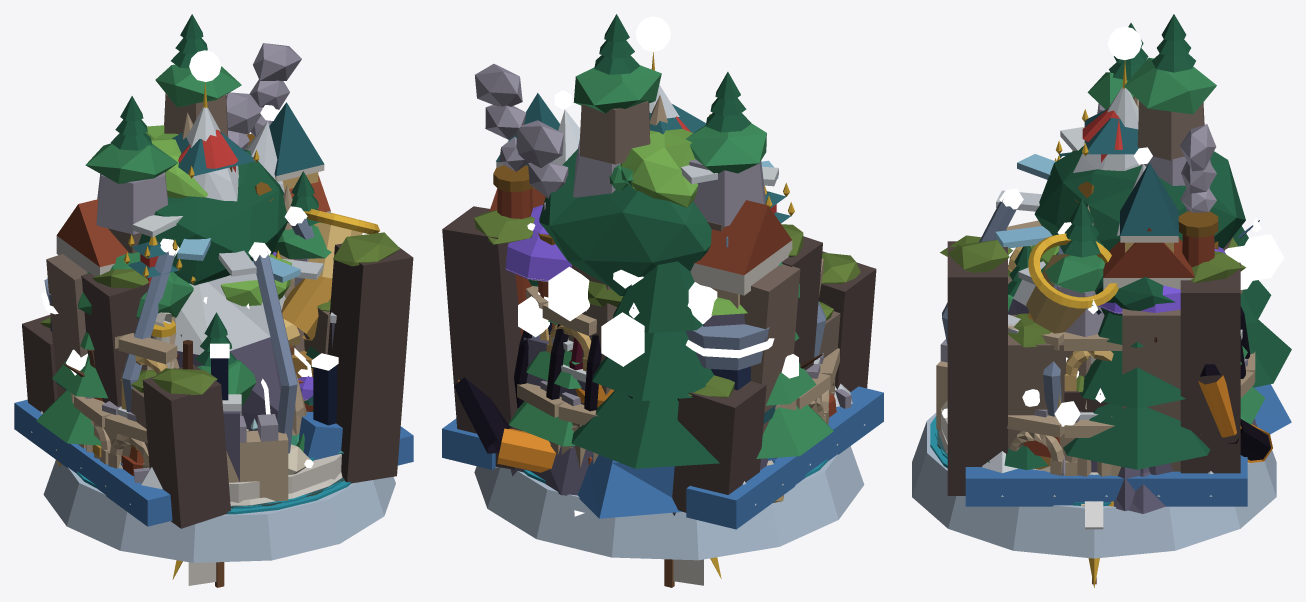
Rendered from orrery.glb.
3 renders of one model, left to right at view 1: azimuth 30°, elevation 25°; view 2: azimuth 150°, elevation 25°; view 3: azimuth 270°, elevation 25°, orthographic. The views are drawn at different scales.
Visible parts, largest first — view 1: or_site_gorge_paint, or_site_abyss_paint, or_site_pillars_paint, or_site_oak_paint, or_site_summit_paint, or_site_fangs_paint, or_site_tethys_paint, or_site_fortress_paint, or_site_colosseum_paint, or_site_horn_paint, or_site_factory_paint, or_site_vault_paint (+19 smaller); view 2: or_site_gorge_paint, or_site_forest_paint, or_site_abyss_paint, or_site_pillars_paint, or_site_oak_paint, or_site_fangs_paint, or_site_factory_paint, or_site_maw_paint, or_site_vault_paint, or_site_brightwood_glow, or_site_colosseum_paint, or_site_horn_paint (+15 smaller); view 3: or_site_gorge_paint, or_site_abyss_paint, or_site_forest_paint, or_site_pillars_paint, or_site_oak_paint, or_site_fangs_paint, or_site_colosseum_paint, or_site_horn_paint, or_site_factory_paint, or_site_dome_paint, or_site_vault_paint, or_site_summit_paint (+11 smaller).
Boxes of the visible parts, x1,y1,x2,y2 form: or_site_gorge_paint: [22, 232, 413, 528]; or_site_abyss_paint: [43, 460, 395, 562]; or_site_pillars_paint: [85, 14, 331, 415]; or_site_oak_paint: [78, 125, 291, 318]; or_site_summit_paint: [174, 107, 291, 431]; or_site_fangs_paint: [14, 362, 413, 526]; or_site_tethys_paint: [122, 218, 331, 453]; or_site_fortress_paint: [85, 250, 288, 501]; or_site_colosseum_paint: [71, 333, 177, 468]; or_site_horn_paint: [281, 208, 379, 345]; or_site_factory_paint: [92, 43, 301, 457]; or_site_vault_paint: [56, 175, 330, 276]; or_site_gorge_paint: [442, 206, 876, 512]; or_site_forest_paint: [509, 261, 833, 468]; or_site_abyss_paint: [474, 446, 864, 560]; or_site_pillars_paint: [573, 14, 766, 231]; or_site_oak_paint: [528, 129, 799, 298]; or_site_fangs_paint: [442, 353, 883, 529]; or_site_factory_paint: [475, 64, 822, 418]; or_site_maw_paint: [454, 324, 678, 472]; or_site_vault_paint: [489, 188, 792, 308]; or_site_brightwood_glow: [518, 266, 798, 378]; or_site_colosseum_paint: [517, 258, 839, 455]; or_site_horn_paint: [577, 453, 775, 518]; or_site_gorge_paint: [940, 235, 1245, 495]; or_site_abyss_paint: [912, 413, 1276, 558]; or_site_forest_paint: [987, 226, 1291, 469]; or_site_pillars_paint: [1008, 14, 1216, 376]; or_site_oak_paint: [1029, 146, 1245, 315]; or_site_fangs_paint: [965, 451, 1247, 506]; or_site_colosseum_paint: [1006, 220, 1255, 475]; or_site_horn_paint: [1026, 233, 1291, 513]; or_site_factory_paint: [1178, 124, 1218, 267]; or_site_dome_paint: [1120, 162, 1178, 252]; or_site_vault_paint: [1090, 227, 1194, 363]; or_site_summit_paint: [1008, 86, 1257, 510].
Size of the model in its own units: 6.35 by 10.32 by 6.2.
